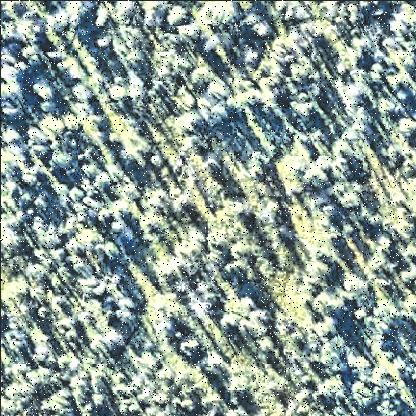tree-top: (275, 152, 309, 190), (201, 1, 241, 31), (304, 259, 338, 290), (62, 1, 94, 33), (169, 112, 203, 142), (343, 77, 371, 111), (39, 389, 74, 416), (348, 379, 377, 411), (339, 274, 368, 306), (312, 291, 342, 321), (254, 198, 283, 228), (304, 164, 329, 194), (9, 359, 39, 384), (201, 352, 227, 380), (205, 103, 231, 130), (189, 64, 216, 90), (39, 112, 65, 138), (107, 217, 133, 243), (66, 81, 94, 105), (155, 261, 179, 289), (220, 379, 248, 403), (367, 251, 390, 280), (176, 334, 202, 358), (246, 17, 272, 41), (376, 96, 402, 120), (47, 151, 72, 175), (166, 5, 190, 29), (89, 168, 113, 192), (18, 43, 43, 66), (1, 78, 24, 103), (347, 354, 373, 376), (106, 83, 131, 105), (293, 98, 318, 120), (19, 162, 41, 187), (31, 81, 55, 103), (332, 137, 352, 163), (93, 206, 116, 228), (221, 260, 244, 282), (217, 314, 242, 334), (93, 8, 113, 32), (206, 80, 230, 100), (287, 59, 307, 83), (397, 115, 416, 139), (1, 128, 23, 148), (149, 150, 169, 171), (103, 328, 125, 346), (90, 391, 109, 411), (338, 193, 359, 211), (239, 49, 259, 67), (351, 307, 371, 325), (375, 231, 393, 250), (369, 6, 388, 20)
